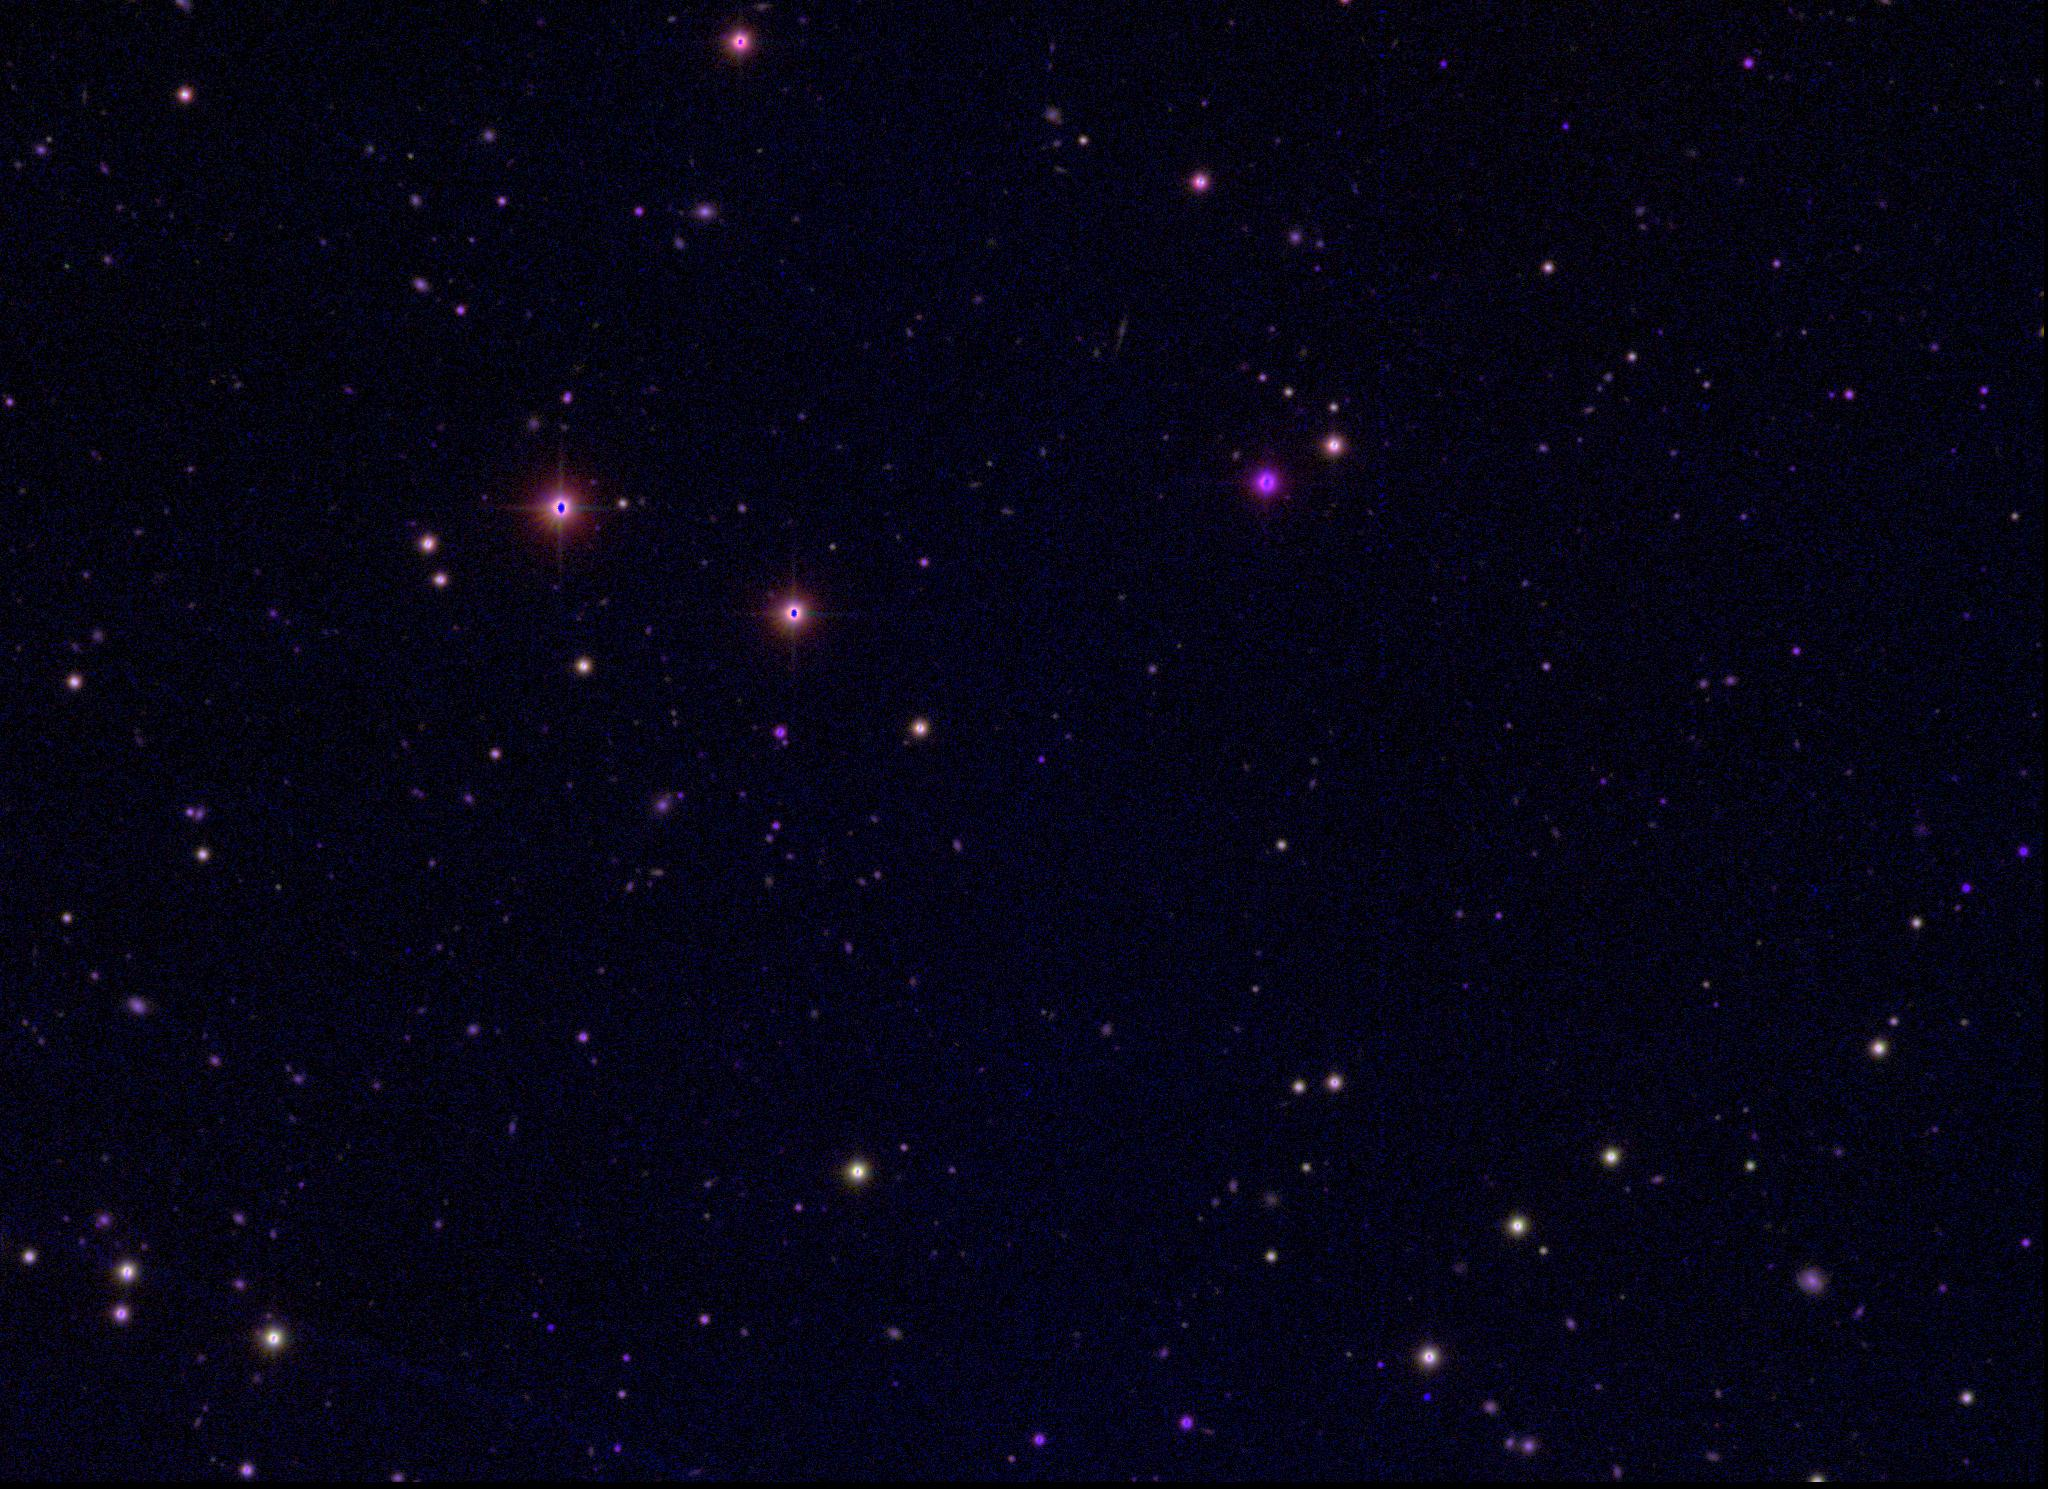L: (1418, 1390, 1433, 1405)
